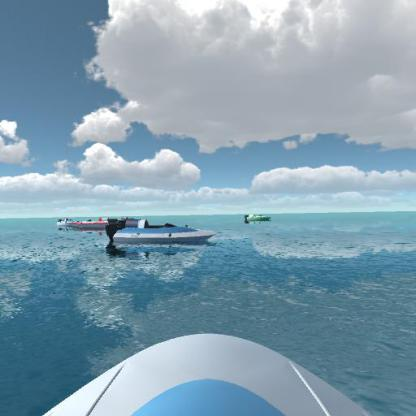usv0: (242, 210, 274, 228)
usv1: (103, 213, 221, 249), (56, 212, 75, 229)
usv3: (76, 209, 120, 236)
